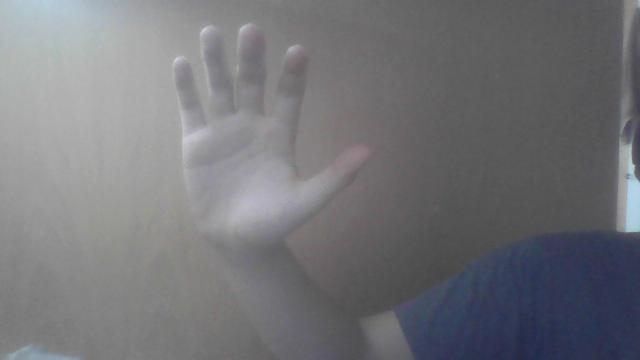Stop: (175, 24, 362, 256)
